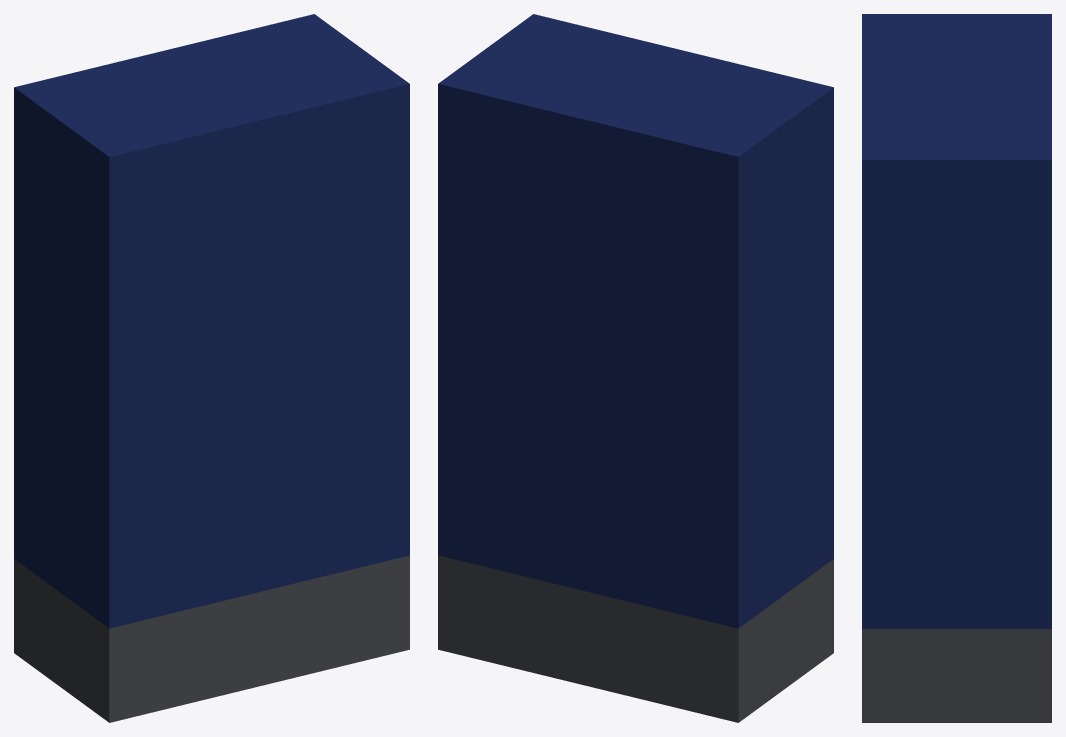
Rendered from arb_torso.obj.
The picture shows the model from 3 angles, left to right: view 1: azimuth 30°, elevation 25°; view 2: azimuth 150°, elevation 25°; view 3: azimuth 270°, elevation 25°; orthographic projection.
Size of the model in its own units: 0.4 by 0.72 by 0.22.
2 materials, 2 textured.
